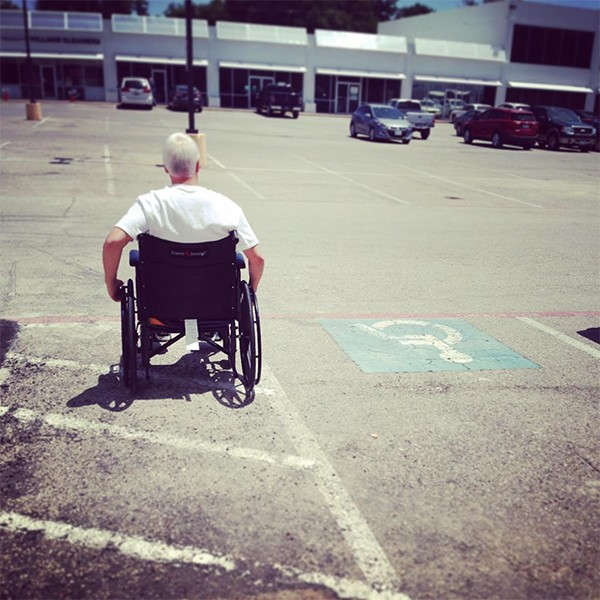wheelchair: (102, 132, 265, 388)
